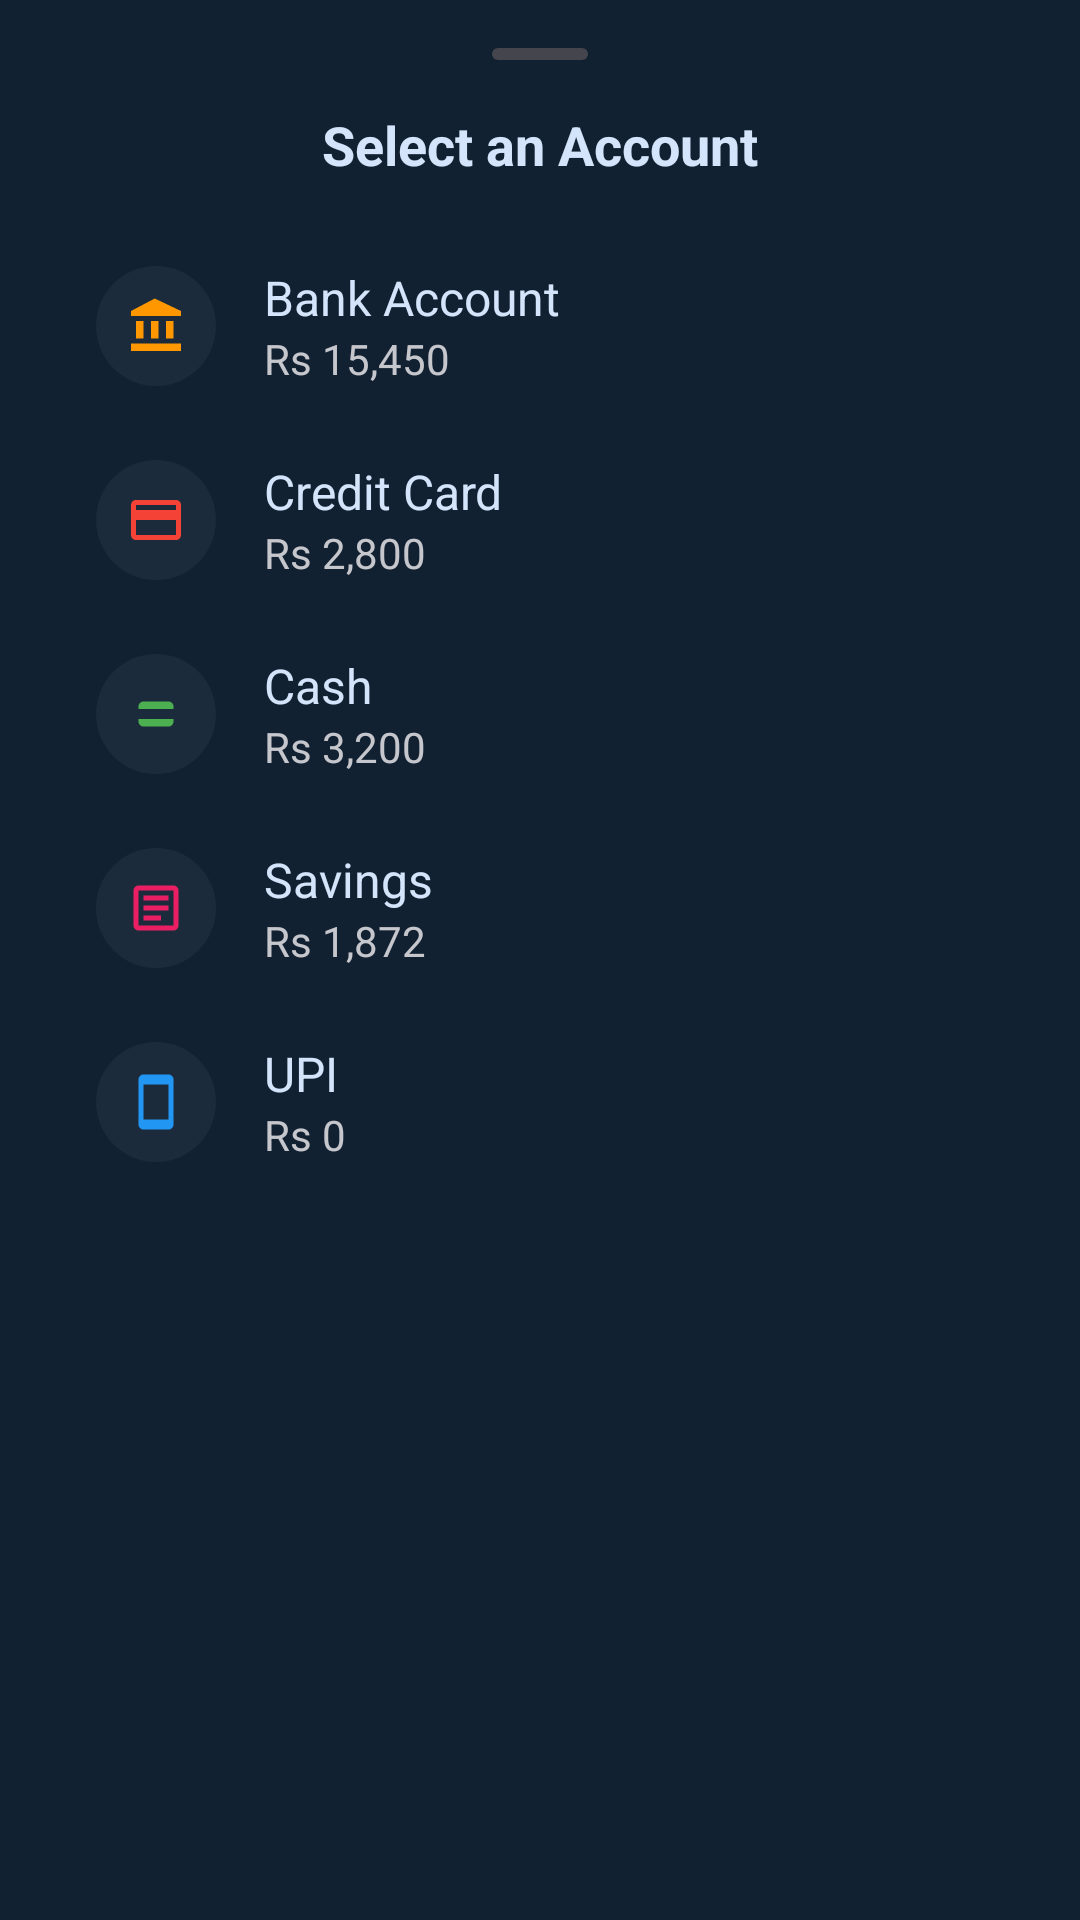

Named icons in this screenshot (1080px×1920px) and their bounding boxes, (x1=x1, y1=y1, x2=x2, y2=y2):
account balance: (x1=131, y1=298, x2=181, y2=351)
smartphone: (x1=138, y1=1074, x2=174, y2=1130)
